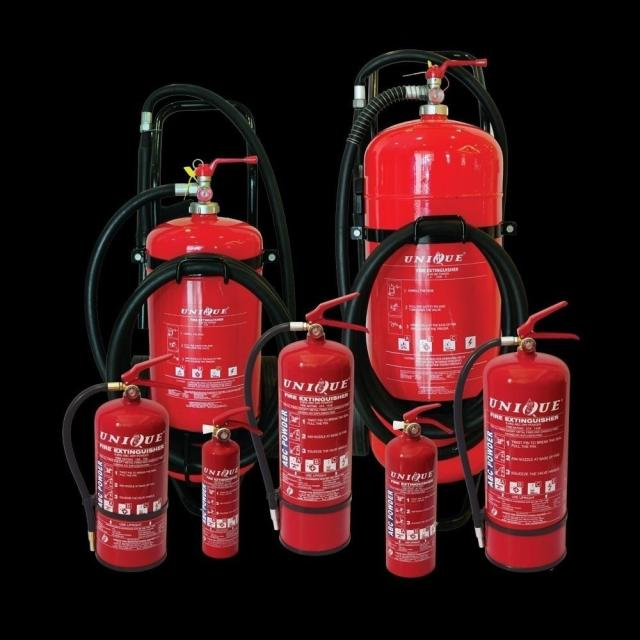fire_extinguisher: (330, 45, 538, 491), (80, 79, 300, 478), (450, 298, 582, 576), (240, 290, 372, 559), (54, 350, 188, 578), (375, 398, 454, 584), (194, 404, 263, 562)
